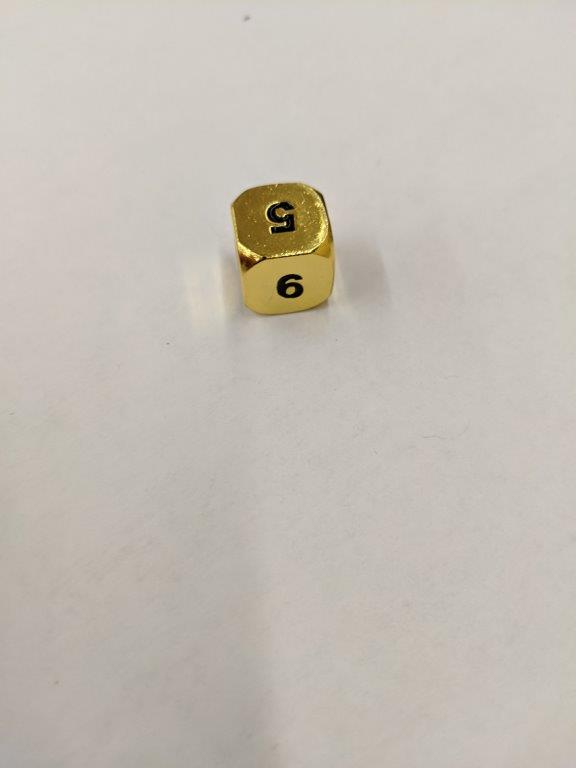d6-5: (232, 180, 337, 318)
